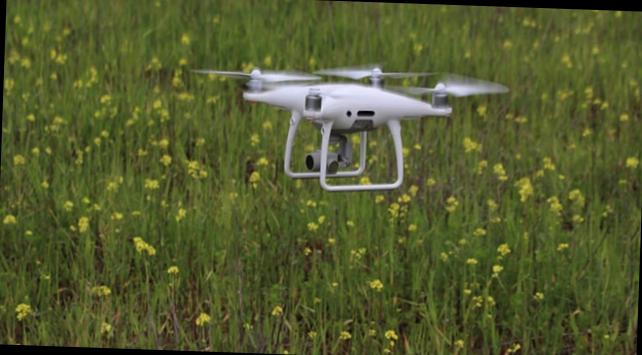drone: (200, 47, 514, 172)
